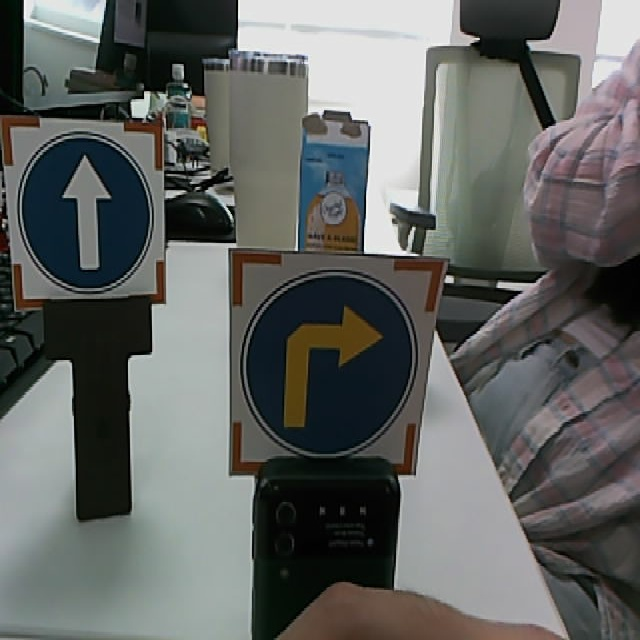right: (229, 247, 451, 476)
straight: (1, 117, 167, 304)
